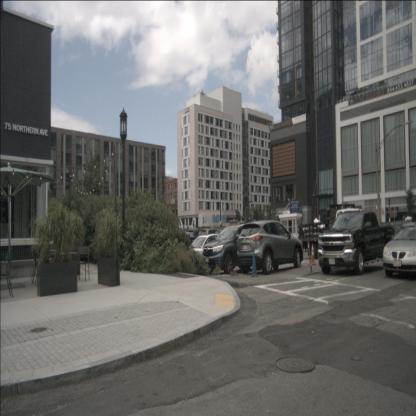movable_object-trafficcone: (251, 252, 259, 277), (310, 244, 316, 265)
vehicle-car: (236, 220, 304, 275), (202, 224, 266, 275), (184, 233, 235, 274), (382, 221, 415, 282), (197, 228, 224, 251)
vehicle-truck: (316, 209, 394, 276), (298, 208, 363, 260)
